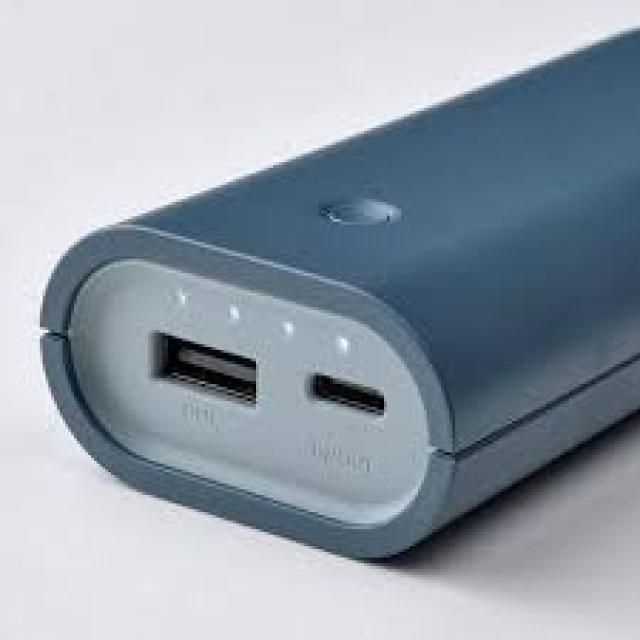power_bank: (37, 22, 640, 571)
